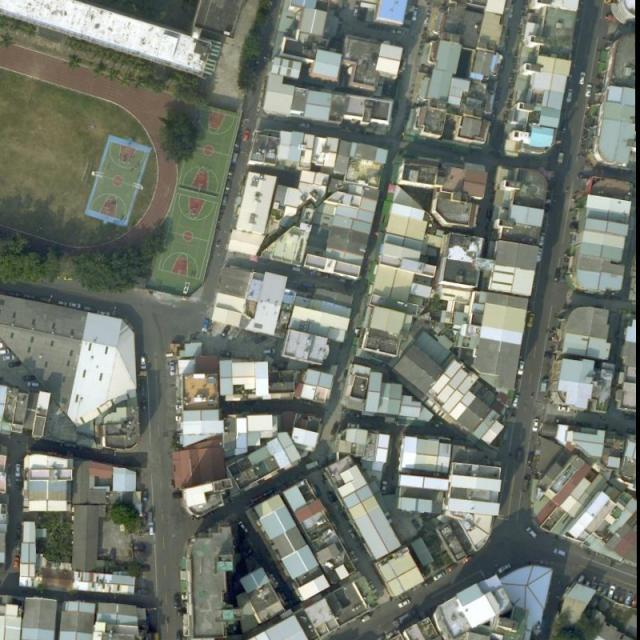vehicle: (610, 586, 624, 602), (497, 562, 513, 574), (617, 589, 629, 605), (552, 546, 567, 558), (396, 597, 411, 609), (419, 577, 435, 588), (525, 525, 538, 538), (410, 6, 420, 22), (326, 490, 338, 503), (433, 570, 446, 582), (221, 324, 232, 338), (606, 585, 617, 599), (623, 591, 634, 605), (526, 314, 536, 329), (38, 295, 54, 304), (578, 71, 587, 87), (553, 268, 562, 284), (512, 394, 521, 410), (348, 550, 360, 562), (306, 461, 320, 471), (242, 129, 252, 143), (168, 361, 176, 378), (522, 476, 530, 493), (201, 318, 210, 333), (218, 349, 233, 358), (254, 334, 266, 345), (446, 562, 458, 573), (227, 164, 237, 177), (368, 581, 378, 594), (462, 556, 475, 566), (295, 120, 311, 128), (176, 606, 188, 616), (8, 290, 23, 298), (566, 89, 574, 104), (351, 5, 360, 18), (69, 301, 82, 310), (585, 85, 594, 98), (232, 151, 240, 165), (390, 27, 404, 35), (538, 233, 546, 247), (518, 360, 525, 376), (556, 405, 570, 413), (360, 615, 372, 624), (140, 355, 147, 370), (263, 348, 278, 355), (15, 463, 22, 478), (23, 374, 36, 382), (23, 293, 36, 301), (174, 594, 181, 608), (148, 521, 155, 535), (401, 58, 408, 72), (533, 419, 540, 433), (527, 452, 534, 466), (536, 248, 543, 262), (98, 310, 112, 317), (348, 528, 356, 540), (3, 354, 16, 361), (58, 299, 69, 307), (141, 378, 146, 395), (110, 549, 117, 561), (222, 194, 229, 206), (226, 178, 233, 190), (27, 382, 41, 388), (9, 361, 21, 368), (292, 267, 302, 275), (382, 481, 388, 494), (141, 400, 147, 412), (375, 634, 386, 640), (132, 546, 145, 551), (1, 347, 10, 354), (176, 630, 182, 640), (143, 490, 148, 502), (597, 582, 602, 593), (604, 1, 616, 5), (1, 342, 4, 347)
